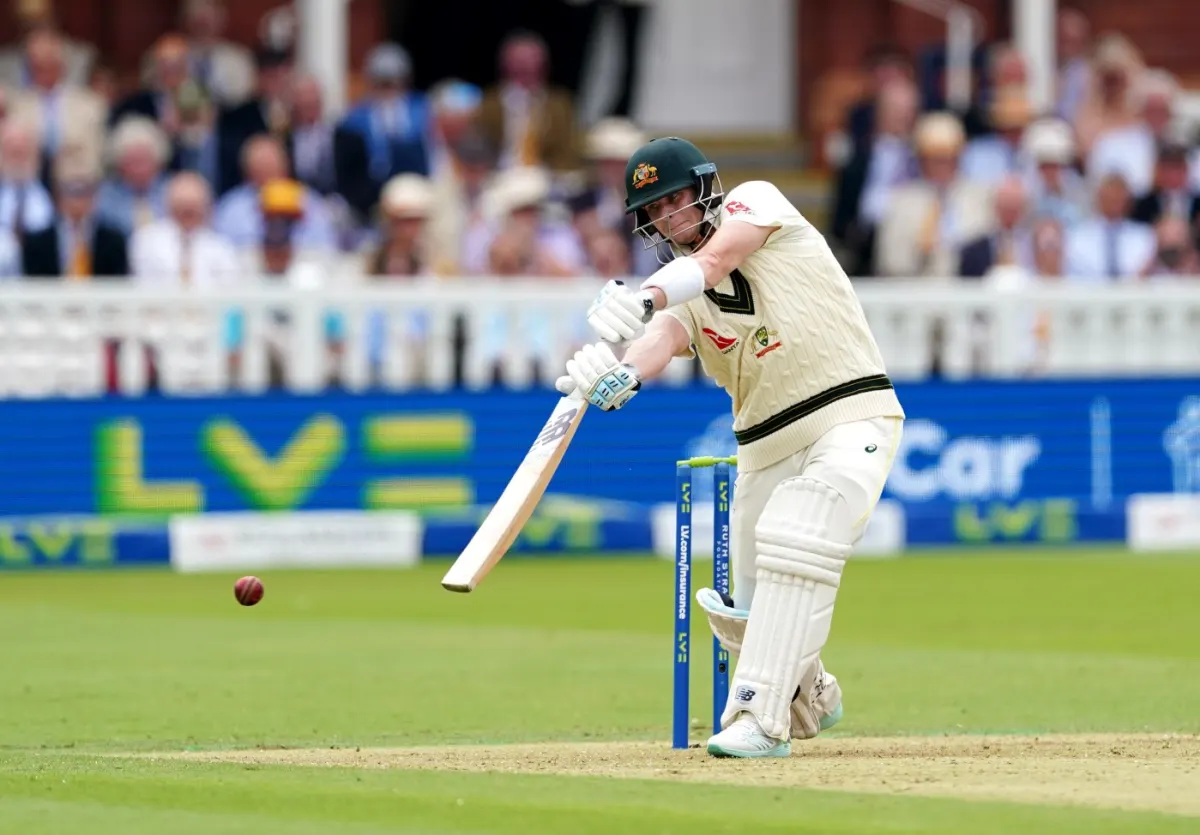Defence: (127, 0, 948, 832)
